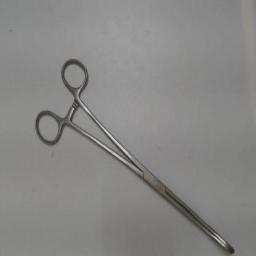Sponge Forceps: (30, 52, 240, 254)
